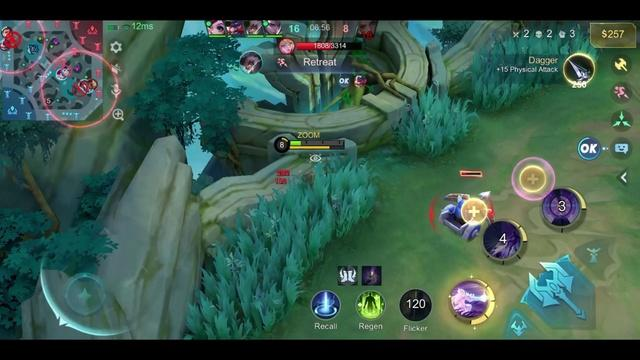Adc_Aliado: (0, 27, 13, 38)
Arbusto: (185, 159, 376, 337), (460, 22, 600, 111), (392, 86, 475, 157)
Energia: (290, 146, 343, 150)
Esbirro_Aliado: (438, 191, 490, 238)
Exp_Aliado: (83, 85, 93, 95)
Exp_Enemigo: (86, 78, 99, 89)
HP_Heroe_Principal: (291, 140, 345, 146)
Jungla_Aliado: (80, 79, 87, 90)
Lesly: (292, 164, 337, 203)
Mid_Aliado: (56, 69, 67, 80)
Mid_Enemigo: (62, 65, 72, 77)
Minimapa: (1, 19, 104, 122)
Roamer_Aliado: (1, 39, 10, 51)
Skill1: (452, 280, 496, 324)
